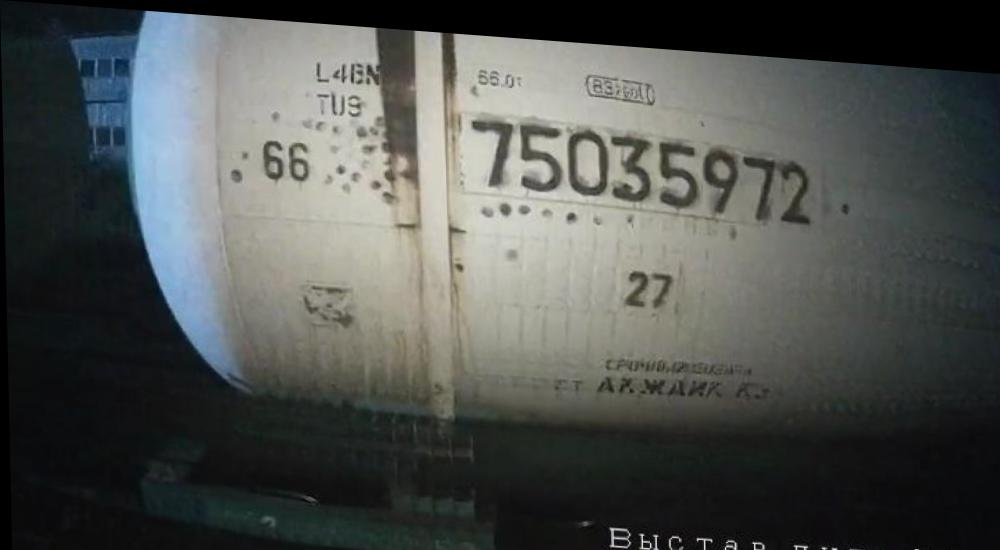Wagon-number: (466, 106, 819, 219)
